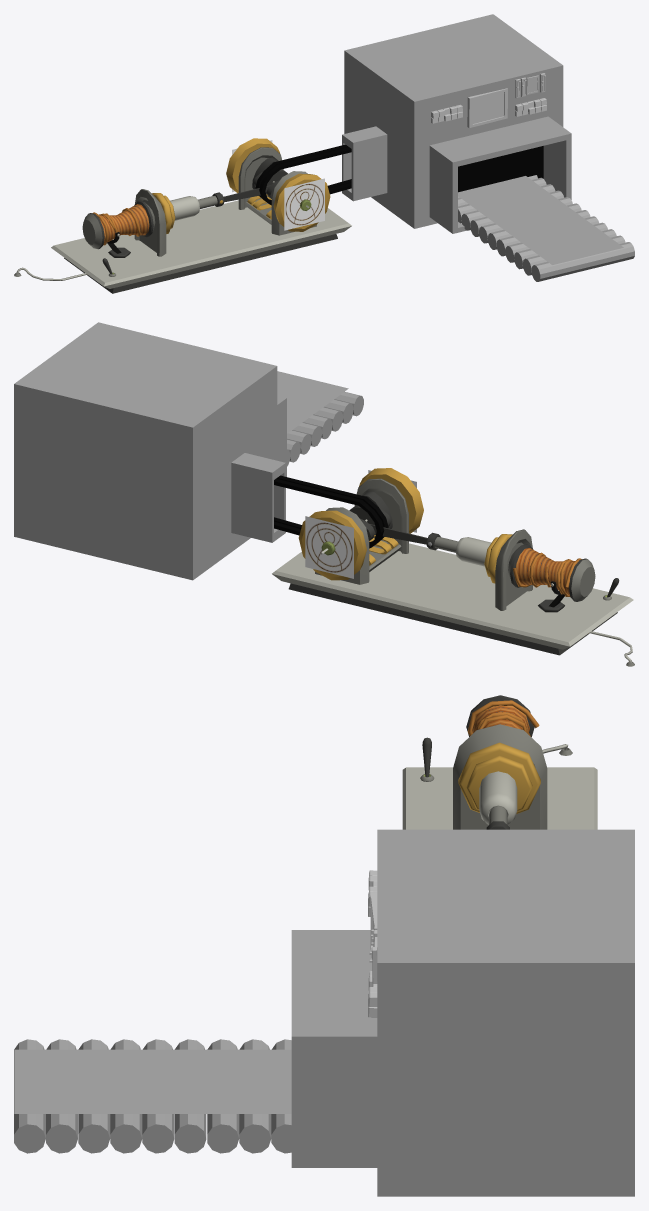
The model's file is SolenoidEngine_Conveyer.fbx.
3 renders of one model, top to bottom at view 1: azimuth 30°, elevation 25°; view 2: azimuth 150°, elevation 25°; view 3: azimuth 270°, elevation 25°, orthographic. The views are drawn at different scales.
Visible parts, largest first — view 1: conveyerBox, SolenoidEngine_Body, conveyerTop, conveyerRollers, MiniBelts_Box, SolenoidEngine_OuterGears, SolenoidEngine_Wire; view 2: conveyerBox, SolenoidEngine_Body, MiniBelts_Box, SolenoidEngine_OuterGears, SolenoidEngine_Wire, conveyerRollers, conveyerTop; view 3: conveyerBox, conveyerTop, SolenoidEngine_Body, conveyerRollers, SolenoidEngine_Wire.
Part boxes in pixels (x1,y1,x2,y2): conveyerBox: (344, 14, 571, 233); SolenoidEngine_Body: (14, 147, 351, 293); conveyerTop: (458, 176, 623, 264); conveyerRollers: (458, 175, 634, 281); MiniBelts_Box: (255, 126, 387, 205); SolenoidEngine_OuterGears: (226, 138, 330, 231); SolenoidEngine_Wire: (82, 201, 155, 249); conveyerBox: (14, 322, 286, 580); SolenoidEngine_Body: (272, 478, 634, 666); MiniBelts_Box: (231, 453, 388, 548); SolenoidEngine_OuterGears: (298, 468, 423, 580); SolenoidEngine_Wire: (508, 544, 595, 601); conveyerRollers: (287, 391, 363, 466); conveyerTop: (277, 371, 348, 433); conveyerBox: (291, 829, 634, 1196); conveyerTop: (14, 1049, 291, 1113); SolenoidEngine_Body: (402, 724, 597, 829); conveyerRollers: (14, 1039, 291, 1153); SolenoidEngine_Wire: (466, 695, 539, 737).
Size of the model in its own units: 19.42 by 4.75 by 11.42.
